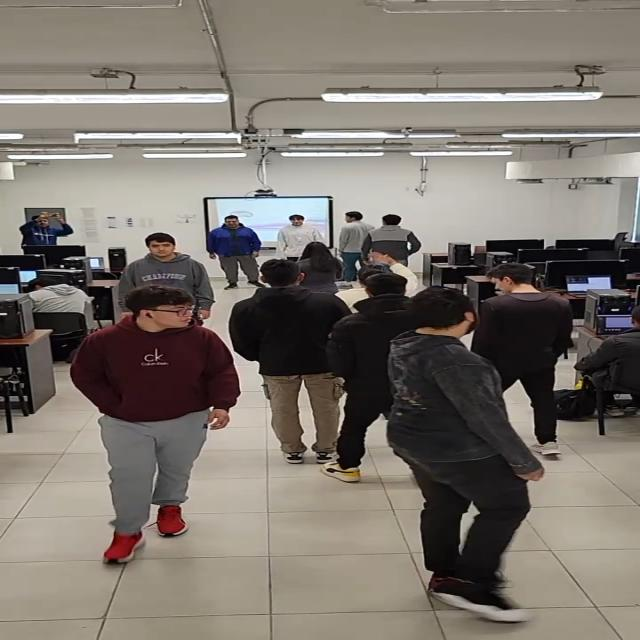Persona: (387, 282, 542, 640), (70, 282, 224, 568), (225, 258, 342, 463), (480, 260, 575, 467), (328, 273, 412, 496), (202, 210, 266, 292), (335, 209, 369, 280), (279, 214, 326, 262)
